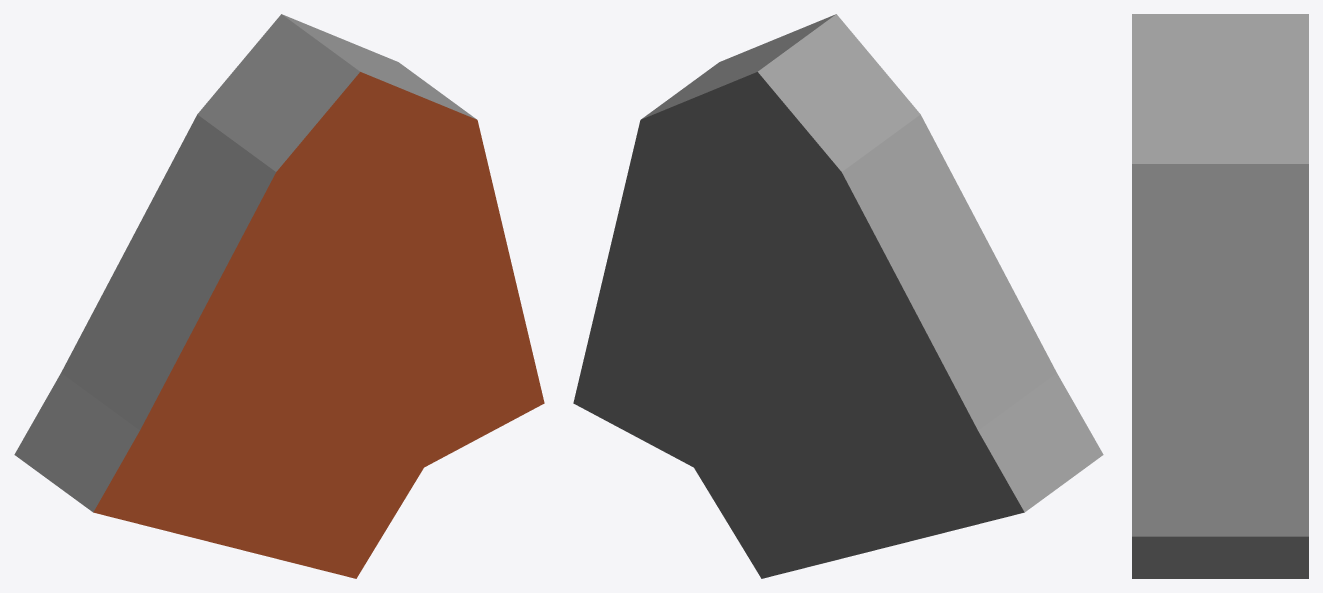
Rendered from construction_4598_assumed_A_Casa_h6m.obj.
3 renders of one model, left to right at view 1: azimuth 30°, elevation 25°; view 2: azimuth 150°, elevation 25°; view 3: azimuth 270°, elevation 25°, orthographic. The views are drawn at different scales.
Visible parts, largest first — view 1: construction_4598_assumed_A_Casa; view 2: construction_4598_assumed_A_Casa; view 3: construction_4598_assumed_A_Casa.
Boxes of the visible parts, x1,y1,x2,y2 form: construction_4598_assumed_A_Casa: [14, 14, 544, 578]; construction_4598_assumed_A_Casa: [573, 14, 1103, 578]; construction_4598_assumed_A_Casa: [1132, 14, 1308, 578].
Size of the model in its own units: 19.81 by 21.24 by 6.
